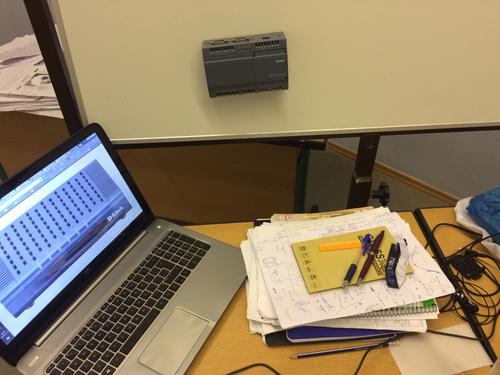iot2000: (202, 31, 290, 99)
